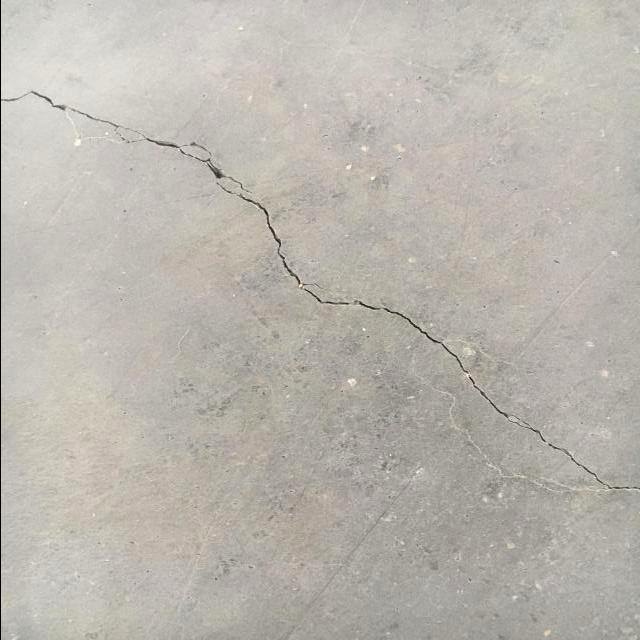SurfaceCrack: (2, 29, 640, 536)
